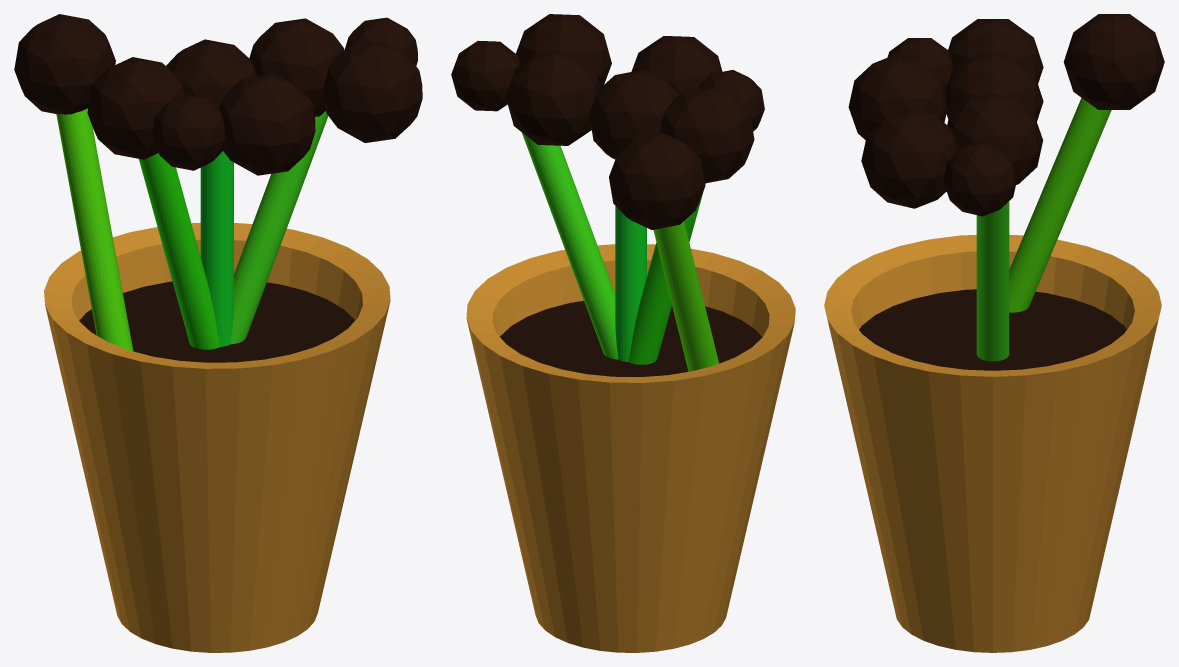
The model's file is plant.obj.
3 renders of one model, left to right at view 1: azimuth 30°, elevation 25°; view 2: azimuth 150°, elevation 25°; view 3: azimuth 270°, elevation 25°, orthographic. The views are drawn at different scales.
Parts seen in each view (by area): view 1: Cylinder, Cylinder.001, Cylinder.013, Cylinder.007, Cylinder.008, Cylinder.004, Cylinder.011, Cylinder.003, Cylinder.012, Cylinder.010, Cylinder.006, Cylinder.005 (+2 smaller); view 2: Cylinder, Cylinder.001, Cylinder.004, Cylinder.006, Cylinder.012, Cylinder.003, Cylinder.002, Cylinder.013, Cylinder.010, Cylinder.009, Cylinder.007, Cylinder.008 (+2 smaller); view 3: Cylinder, Cylinder.001, Cylinder.004, Cylinder.007, Cylinder.013, Cylinder.008, Cylinder.012, Cylinder.006, Cylinder.009, Cylinder.002, Cylinder.003, Cylinder.005.
Boxes of the visible parts, x1=… form: Cylinder: x1=44, y1=222, x2=390, y2=652; Cylinder.001: x1=79, y1=281, x2=355, y2=362; Cylinder.013: x1=56, y1=108, x2=133, y2=351; Cylinder.007: x1=323, y1=41, x2=422, y2=142; Cylinder.008: x1=219, y1=73, x2=315, y2=175; Cylinder.004: x1=14, y1=14, x2=115, y2=114; Cylinder.011: x1=139, y1=153, x2=219, y2=349; Cylinder.003: x1=87, y1=57, x2=185, y2=159; Cylinder.012: x1=230, y1=111, x2=328, y2=344; Cylinder.010: x1=200, y1=151, x2=233, y2=346; Cylinder.006: x1=249, y1=18, x2=344, y2=116; Cylinder.005: x1=152, y1=94, x2=225, y2=170; Cylinder: x1=466, y1=244, x2=795, y2=652; Cylinder.001: x1=500, y1=300, x2=762, y2=376; Cylinder.004: x1=609, y1=132, x2=705, y2=229; Cylinder.006: x1=505, y1=51, x2=600, y2=145; Cylinder.012: x1=522, y1=133, x2=618, y2=359; Cylinder.003: x1=659, y1=86, x2=754, y2=183; Cylinder.002: x1=589, y1=70, x2=679, y2=159; Cylinder.013: x1=653, y1=221, x2=719, y2=371; Cylinder.010: x1=615, y1=206, x2=646, y2=362; Cylinder.009: x1=451, y1=40, x2=520, y2=111; Cylinder.007: x1=516, y1=14, x2=611, y2=87; Cylinder.008: x1=631, y1=36, x2=722, y2=94; Cylinder: x1=824, y1=234, x2=1161, y2=652; Cylinder.001: x1=859, y1=289, x2=1126, y2=370; Cylinder.004: x1=1063, y1=14, x2=1164, y2=109; Cylinder.007: x1=861, y1=108, x2=959, y2=208; Cylinder.013: x1=1009, y1=98, x2=1111, y2=312; Cylinder.008: x1=848, y1=54, x2=946, y2=140; Cylinder.012: x1=976, y1=201, x2=1009, y2=361; Cylinder.006: x1=947, y1=92, x2=1043, y2=184; Cylinder.009: x1=943, y1=142, x2=1017, y2=216; Cylinder.002: x1=945, y1=53, x2=1043, y2=121; Cylinder.003: x1=948, y1=19, x2=1043, y2=83; Cylinder.005: x1=887, y1=38, x2=952, y2=91.
Bounding box in the file's own units: 2.26 × 3.61 × 2.02.
